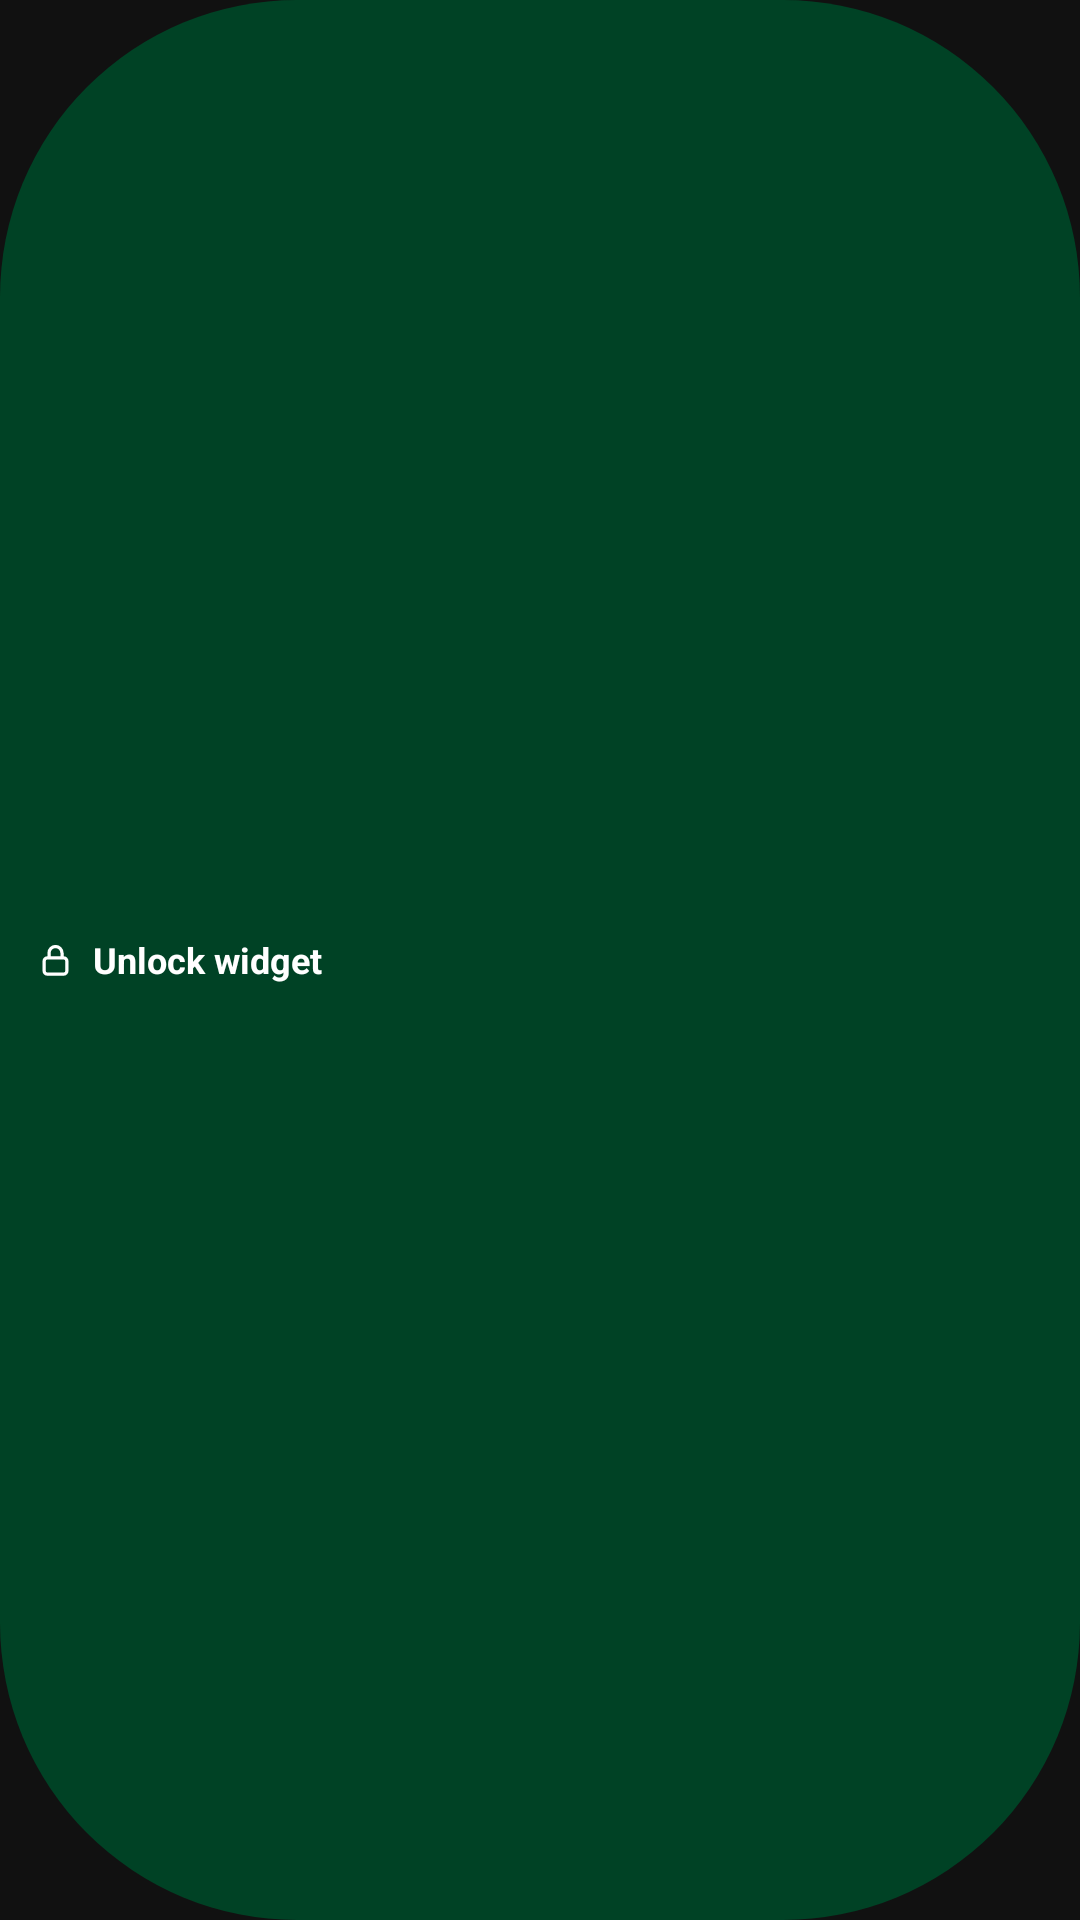

Named icons in this screenshot (1080×1920) and their bounding boxes, bbox(x1, y1, x2, y2):
widget lock: bbox(42, 945, 69, 976)
